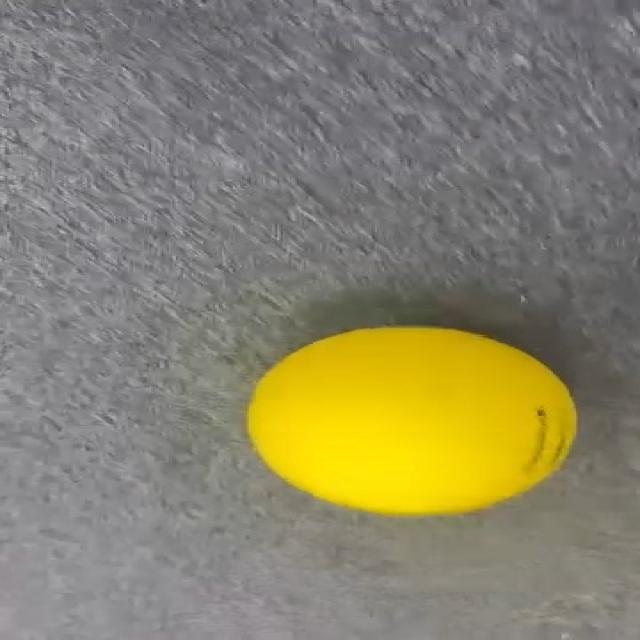Fuels: (249, 328, 572, 515)
